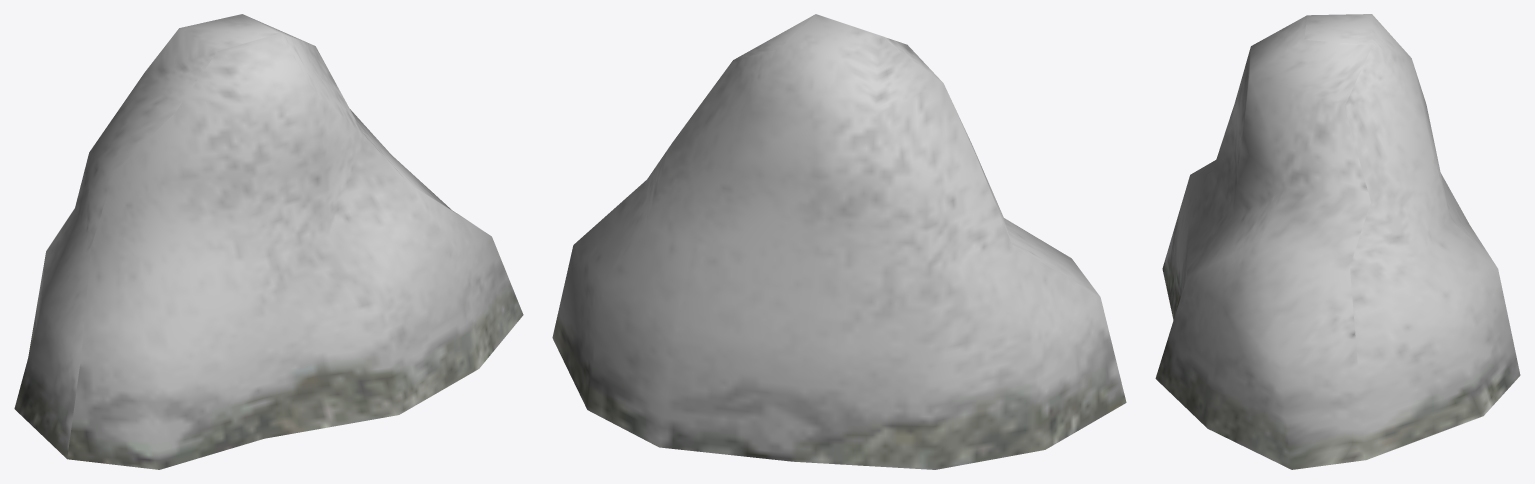
File: general_obj_stone10.fbx
The picture shows the model from 3 angles, left to right: view 1: azimuth 30°, elevation 25°; view 2: azimuth 150°, elevation 25°; view 3: azimuth 270°, elevation 25°; orthographic projection. The views are drawn at different scales.
Visible parts, largest first — view 1: Sphere02; view 2: Sphere02; view 3: Sphere02.
Part boxes in pixels (box(x1,y1,x2,y2)): Sphere02: box(14, 14, 523, 469); Sphere02: box(552, 14, 1126, 469); Sphere02: box(1155, 14, 1520, 469).
Size of the model in its own units: 3.64 by 2.38 by 2.46.
